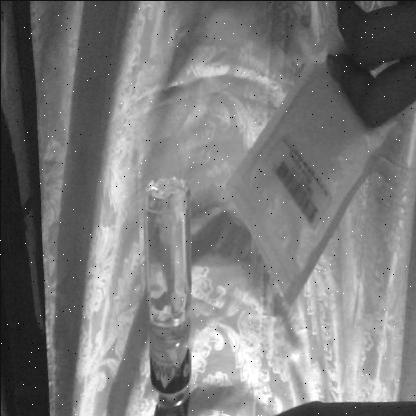Plastic Bottle: (103, 152, 199, 403)
